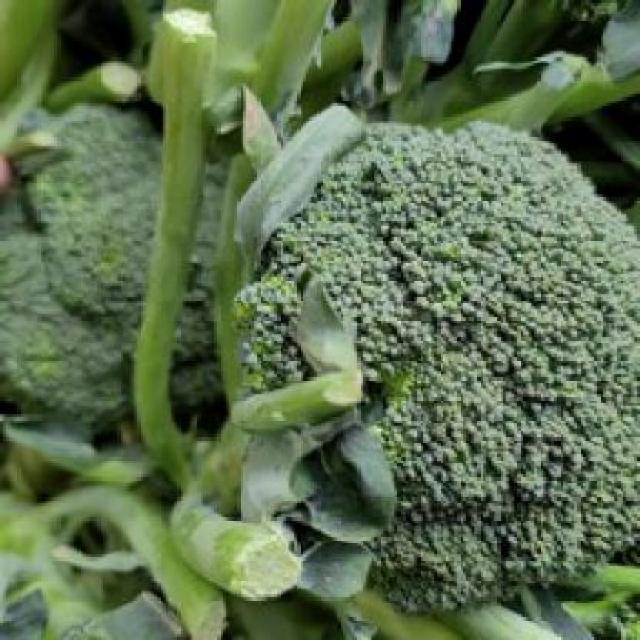broccoli: (242, 132, 638, 592), (3, 82, 240, 435)
